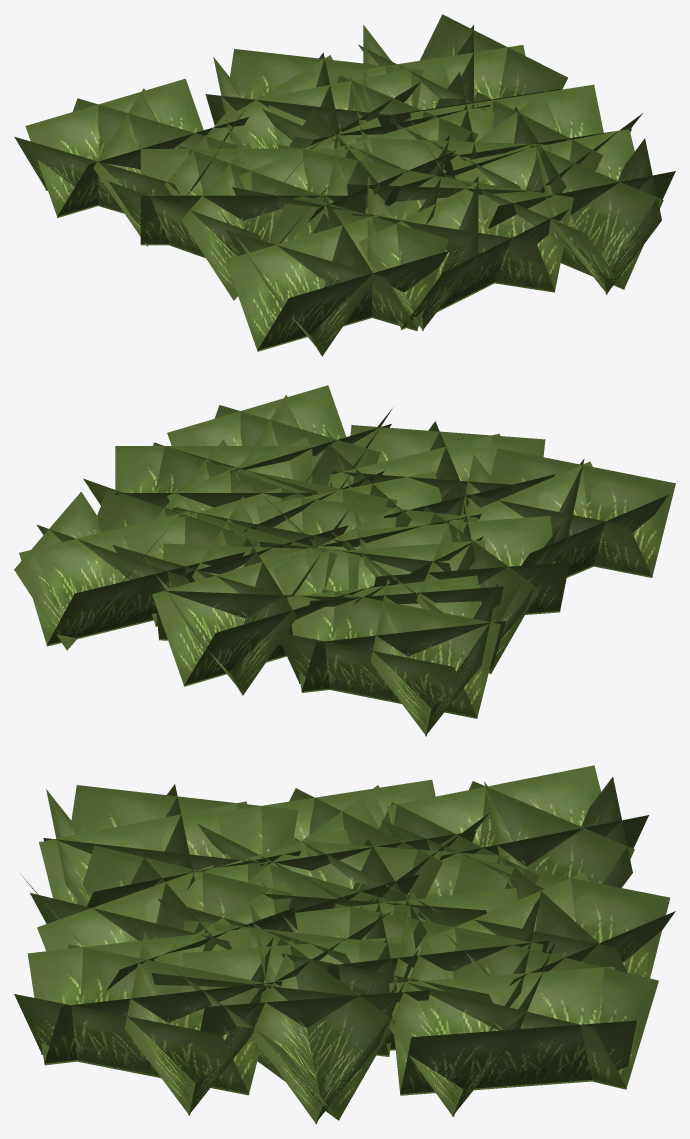
The model's file is grass_large_1.dae.
3 renders of one model, top to bottom at view 1: azimuth 30°, elevation 25°; view 2: azimuth 150°, elevation 25°; view 3: azimuth 270°, elevation 25°, orthographic. The views are drawn at different scales.
Parts seen in each view (by area): view 1: Plane017; view 2: Plane017; view 3: Plane017.
Part boxes in pixels (x1,y1,x2,y2): Plane017: (14, 14, 675, 356); Plane017: (14, 385, 675, 736); Plane017: (14, 765, 675, 1124).
Bounding box in the file's own units: 26.47 × 26.09 × 3.7.
